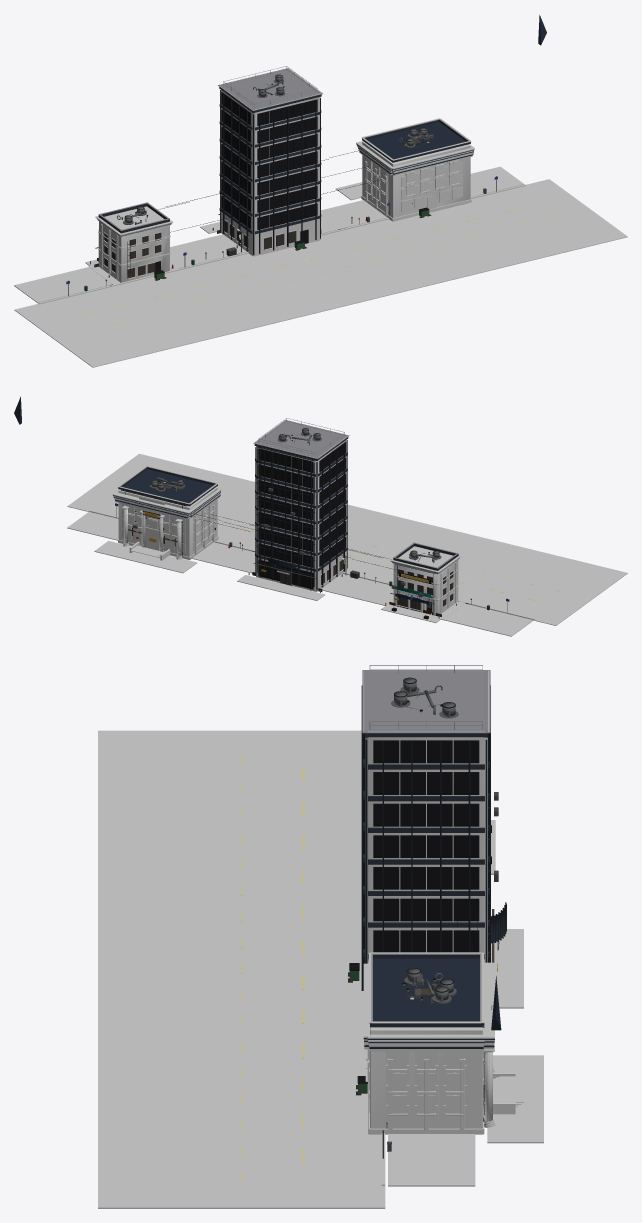
The model's file is hm_buildings_kit_v10.obj.
3 renders of one model, top to bottom at view 1: azimuth 30°, elevation 25°; view 2: azimuth 150°, elevation 25°; view 3: azimuth 270°, elevation 25°, orthographic. The views are drawn at different scales.
Parts seen in each view (by area): view 1: hm_asphalt_v8, hm_sidewalk_v8, hm_midrise_v10_shell, hm_bank_annex_v10_shell, hm_storefront_v10_shell, hm_midrise_v10_flash_top, hm_bank_annex_v10_roof, hm_curb_v8, hm_storefront_v10_roof; view 2: hm_asphalt_v8, hm_sidewalk_v8, hm_midrise_v10_shell, hm_midrise_v10_flash_top, hm_bank_annex_v10_roof, hm_storefront_v10_shell, hm_bank_annex_v10_shell, hm_bank_annex_v10_plaza, hm_midrise_v10_walk, hm_storefront_v10_roof, hm_storefront_v10_walk_f, hm_curb_v8; view 3: hm_asphalt_v8, hm_midrise_v10_shell, hm_midrise_v10_flash_top, hm_bank_annex_v10_roof, hm_bank_annex_v10_shell, hm_sidewalk_v8, hm_bank_annex_v10_plaza, hm_midrise_v10_walk, hm_bank_annex_v10_ent_f_7, hm_midrise_v10_fin_r_4.
Part boxes in pixels (<box>): hm_asphalt_v8: <box>14,179,627,367</box>; hm_sidewalk_v8: <box>14,166,523,303</box>; hm_midrise_v10_shell: <box>220,89,320,256</box>; hm_bank_annex_v10_shell: <box>362,141,470,218</box>; hm_storefront_v10_shell: <box>98,221,169,282</box>; hm_midrise_v10_flash_top: <box>218,68,322,110</box>; hm_bank_annex_v10_roof: <box>367,122,465,159</box>; hm_curb_v8: <box>38,184,525,304</box>; hm_storefront_v10_roof: <box>104,206,164,229</box>; hm_asphalt_v8: <box>67,453,627,625</box>; hm_sidewalk_v8: <box>67,512,533,636</box>; hm_midrise_v10_shell: <box>256,439,346,591</box>; hm_midrise_v10_flash_top: <box>253,420,349,459</box>; hm_bank_annex_v10_roof: <box>123,469,212,502</box>; hm_storefront_v10_shell: <box>393,560,458,614</box>; hm_bank_annex_v10_shell: <box>118,487,217,556</box>; hm_bank_annex_v10_plaza: <box>94,541,197,573</box>; hm_midrise_v10_walk: <box>237,575,325,600</box>; hm_storefront_v10_roof: <box>398,546,453,567</box>; hm_storefront_v10_walk_f: <box>381,604,442,622</box>; hm_curb_v8: <box>89,510,534,619</box>; hm_asphalt_v8: <box>98,730,385,1208</box>; hm_midrise_v10_shell: <box>365,737,487,963</box>; hm_midrise_v10_flash_top: <box>362,670,490,733</box>; hm_bank_annex_v10_roof: <box>373,958,479,1027</box>; hm_bank_annex_v10_shell: <box>370,1027,482,1128</box>; hm_sidewalk_v8: <box>388,1134,475,1186</box>; hm_bank_annex_v10_plaza: <box>487,1055,543,1143</box>; hm_midrise_v10_walk: <box>491,929,523,1008</box>; hm_bank_annex_v10_ent_f_7: <box>477,962,494,1038</box>; hm_midrise_v10_fin_r_4: <box>361,735,364,990</box>.
Size of the model in its own units: 116 by 29.97 by 43.45.
